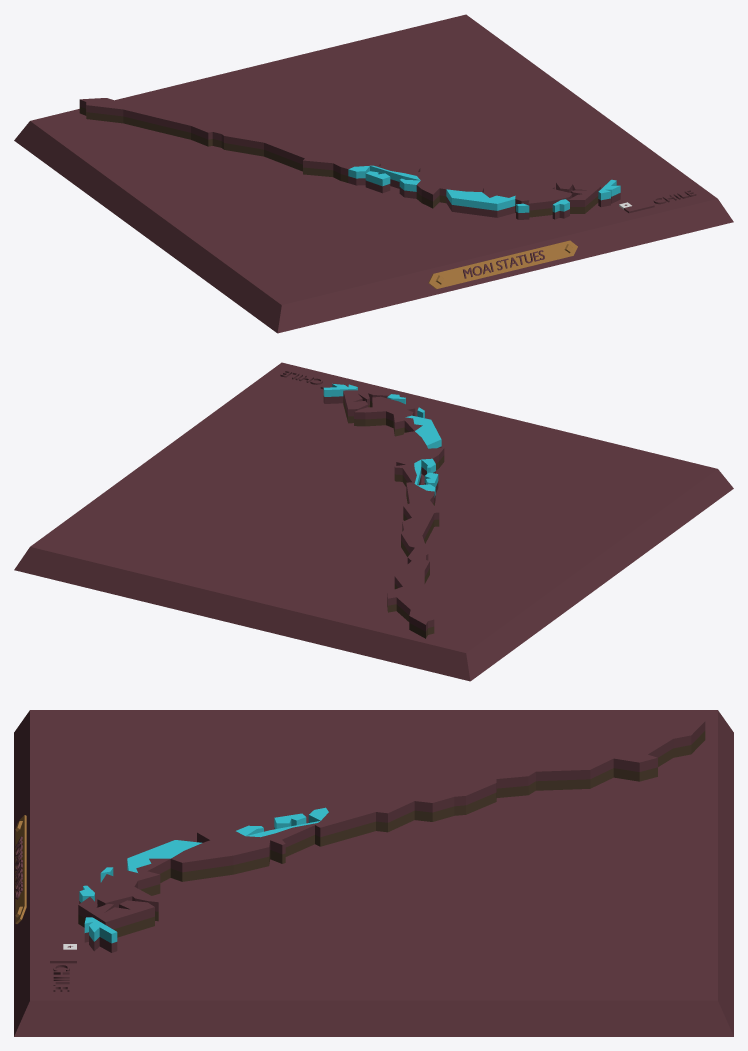
Rendered from SM_Island_Statue_Moai_Landmark.fbx.
3 views of the same model, one above another, from view 1: azimuth 30°, elevation 25°; view 2: azimuth 150°, elevation 25°; view 3: azimuth 270°, elevation 25° (orthographic). The views are drawn at different scales.
Visible parts, largest first — view 1: Island_Statue_Moai_Landmark; view 2: Island_Statue_Moai_Landmark; view 3: Island_Statue_Moai_Landmark.
Part boxes in pixels (x1,y1,x2,y2): Island_Statue_Moai_Landmark: (14, 14, 733, 333); Island_Statue_Moai_Landmark: (14, 362, 733, 681); Island_Statue_Moai_Landmark: (14, 710, 733, 1036).
Bounding box in the file's own units: 68.5 × 5.09 × 68.5.
